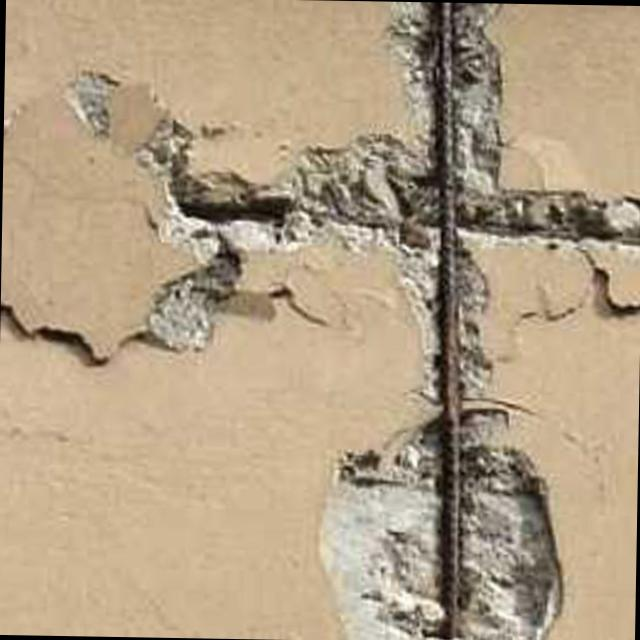spalling: (138, 1, 640, 640)
